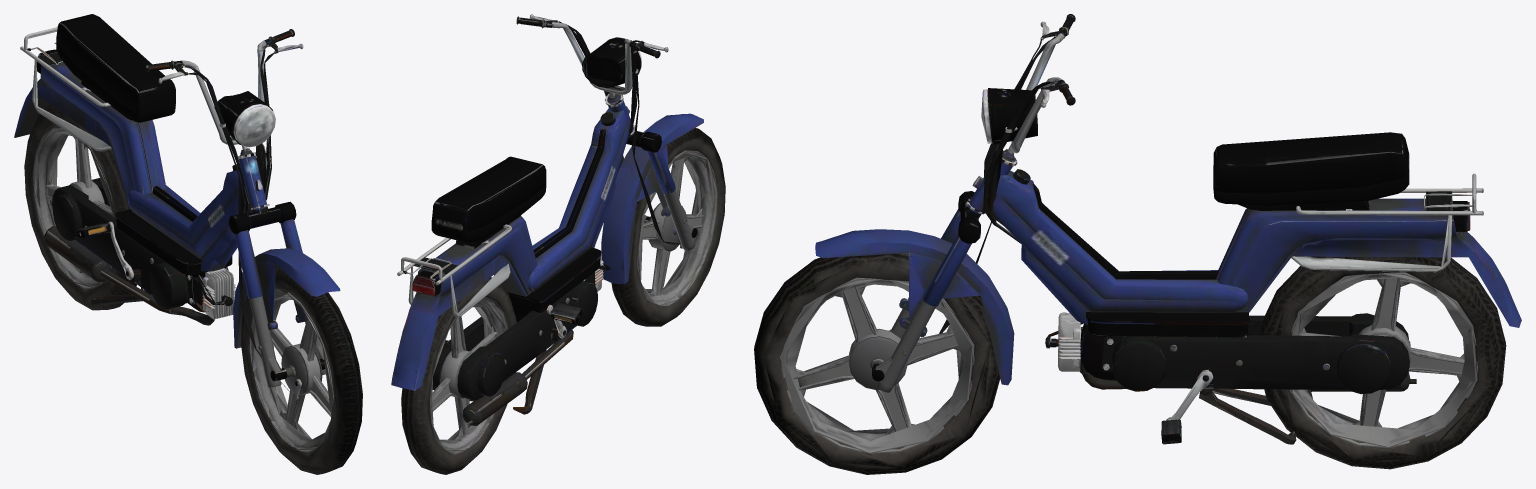
The model's file is scooter.glb.
The picture shows the model from 3 angles, left to right: view 1: azimuth 30°, elevation 25°; view 2: azimuth 150°, elevation 25°; view 3: azimuth 270°, elevation 25°; orthographic projection. The views are drawn at different scales.
Visible parts, largest first — view 1: kit0, kit1, far; view 2: kit0, kit1, far; view 3: kit0, kit1, far.
Part boxes in pixels (x1,y1,x2,y2): kit0: (17, 14, 362, 474); kit1: (14, 16, 353, 467); far: (15, 30, 333, 451); kit0: (391, 14, 725, 474); kit1: (391, 15, 724, 468); far: (404, 25, 717, 452); kit0: (754, 14, 1521, 474); kit1: (764, 16, 1518, 467); far: (780, 44, 1490, 455).
Bounding box in the file's own units: 0.4542 × 1.05 × 1.75.
Materials: 1 (1 with a texture image).
